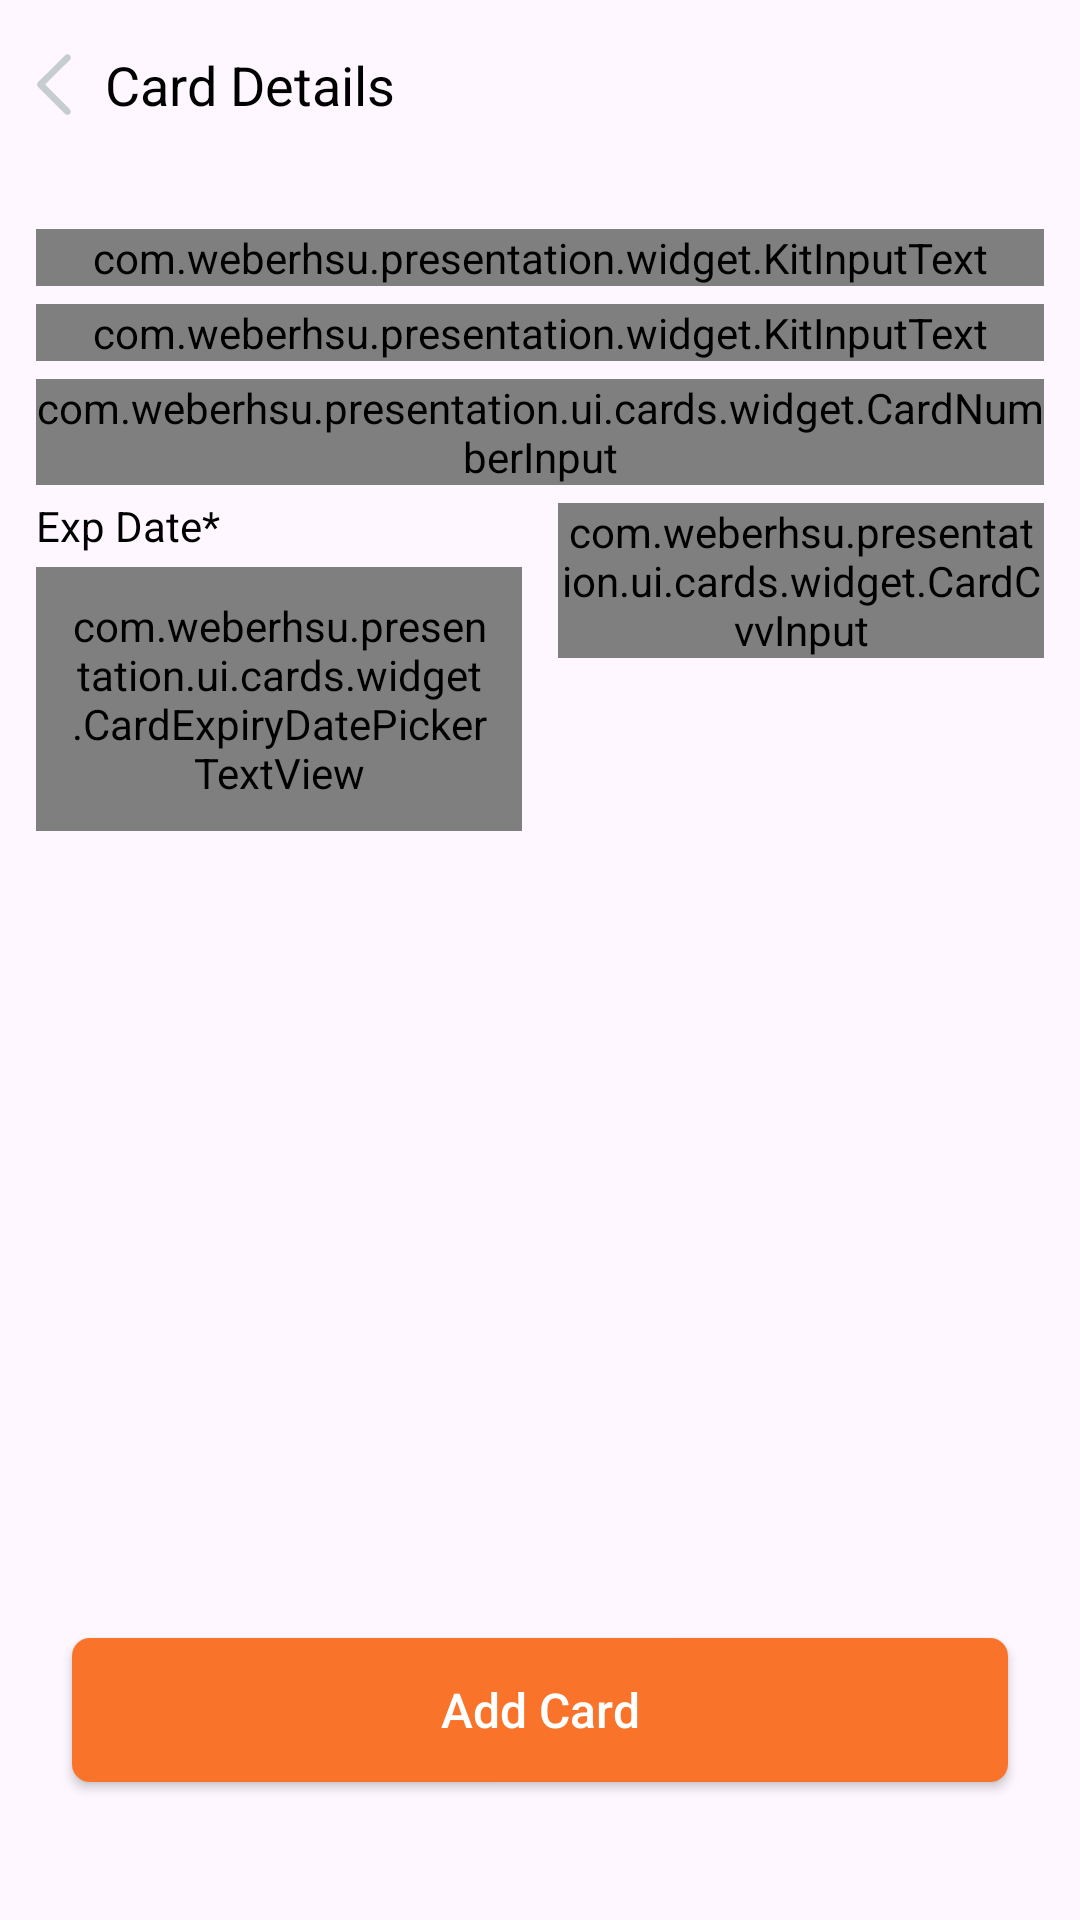

Locate icon controls on the screen. Image size 1080w x 1920h, boxes as (x1, y1, x2, y2).
arrow back: (37, 54, 71, 115)
